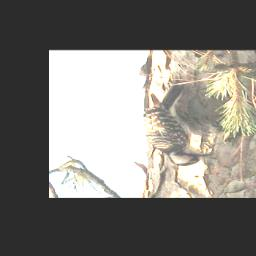Woodpecker: (142, 82, 215, 167)
